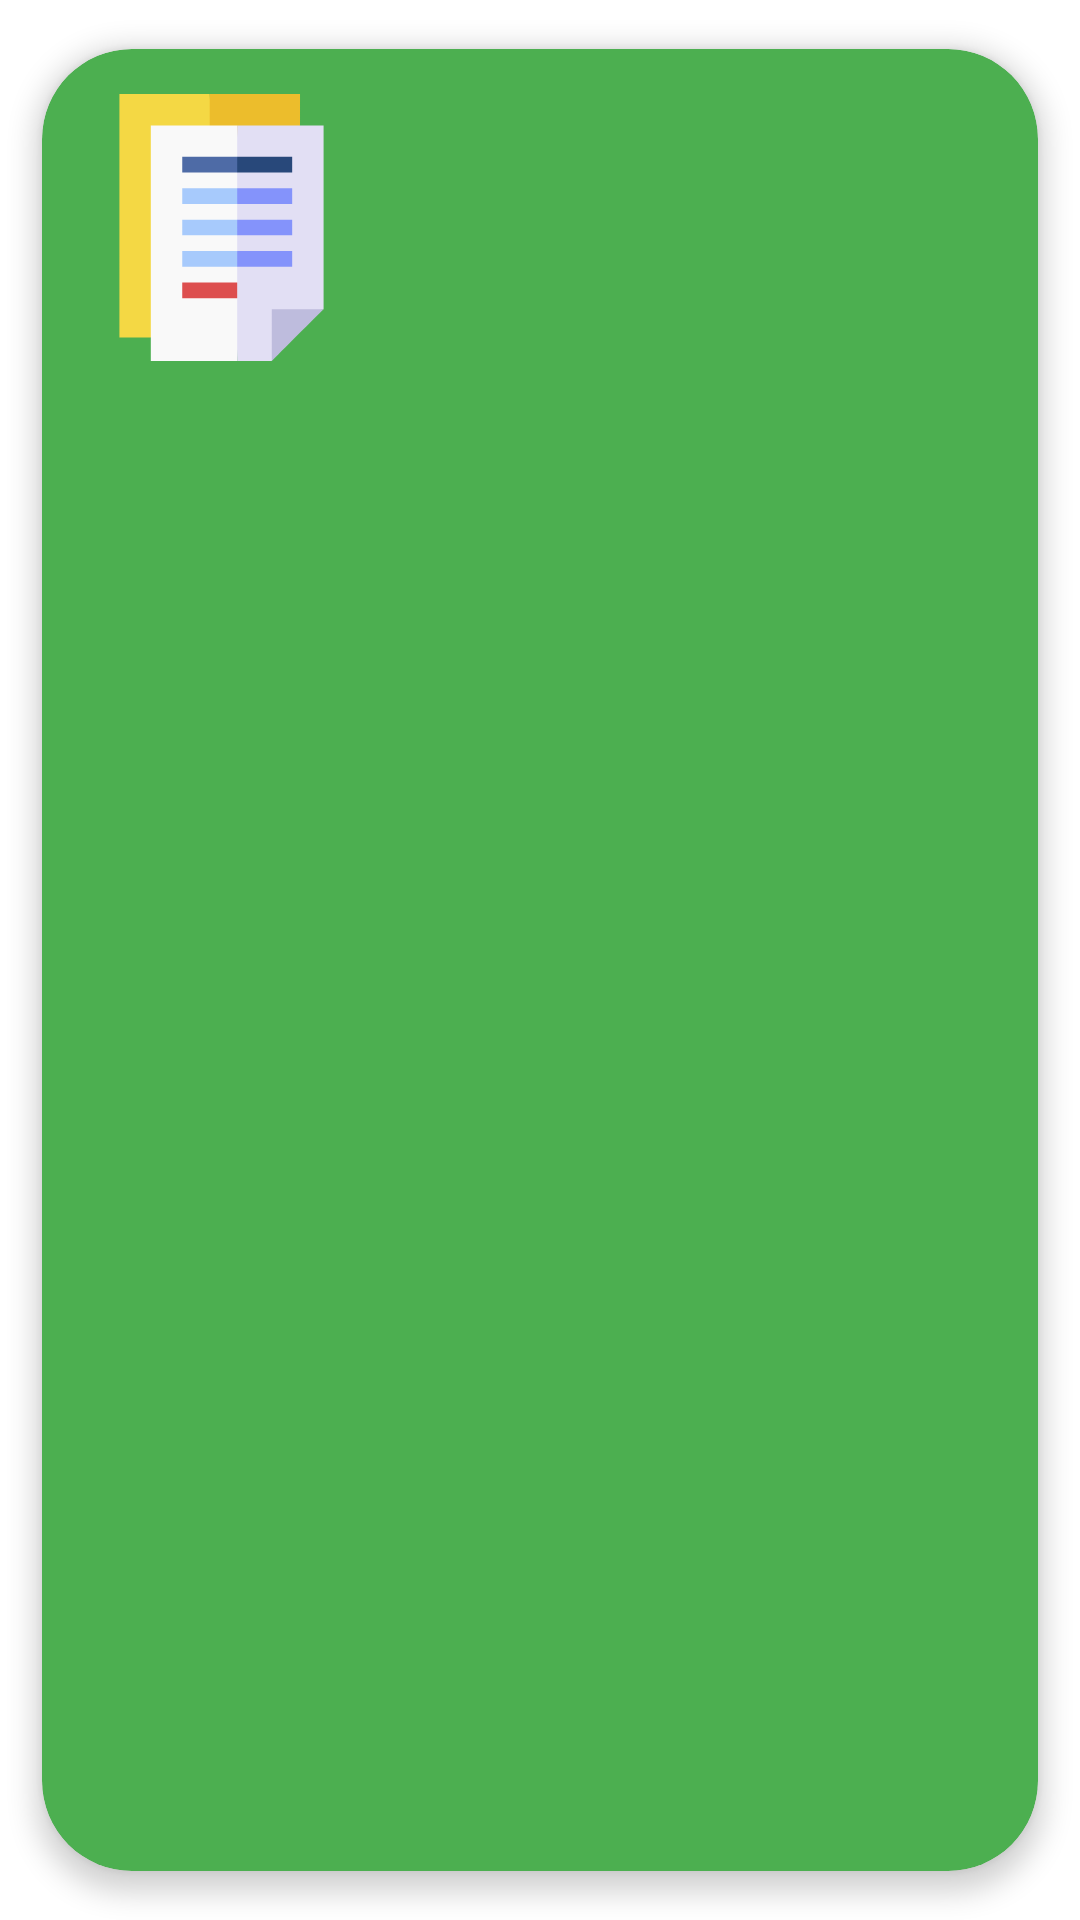

Icons on this 1080x1920 Android screen, each with the point to tap as [x,y]:
document: [221,227]
